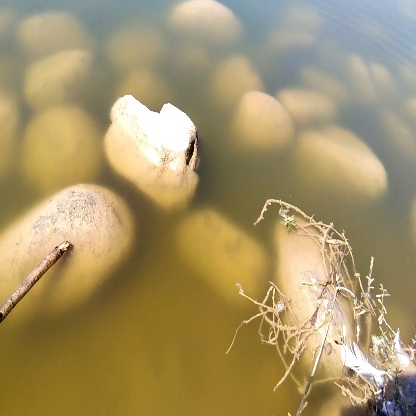branch: (1, 236, 81, 324)
